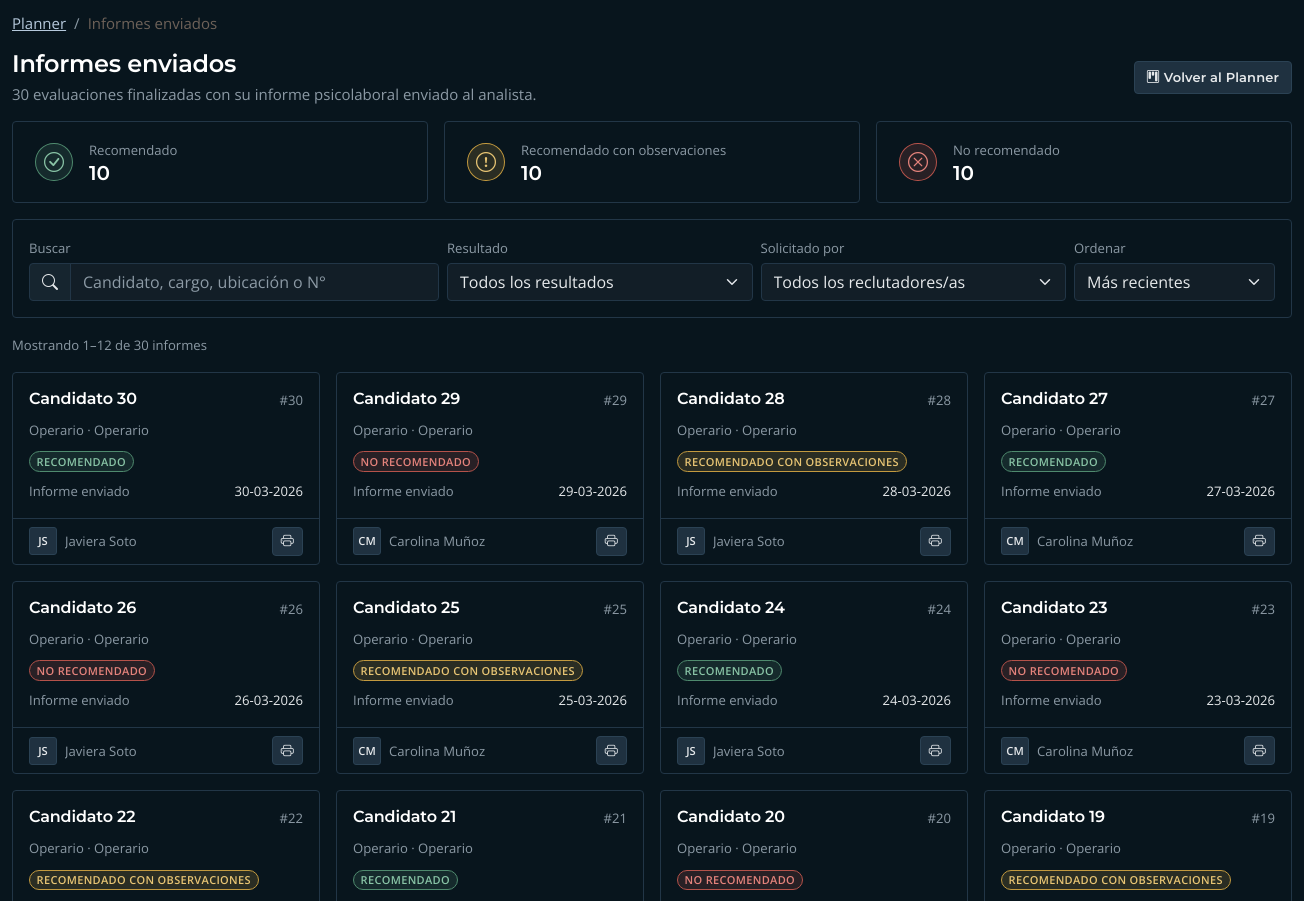
Test case: InformesEnviados › muestra el resumen por resultado y filtra al hacer clic
The width and height of the screenshot is (1304, 901).
Click the button "No recomendado 10": (918, 162) [876,121,1292,203]
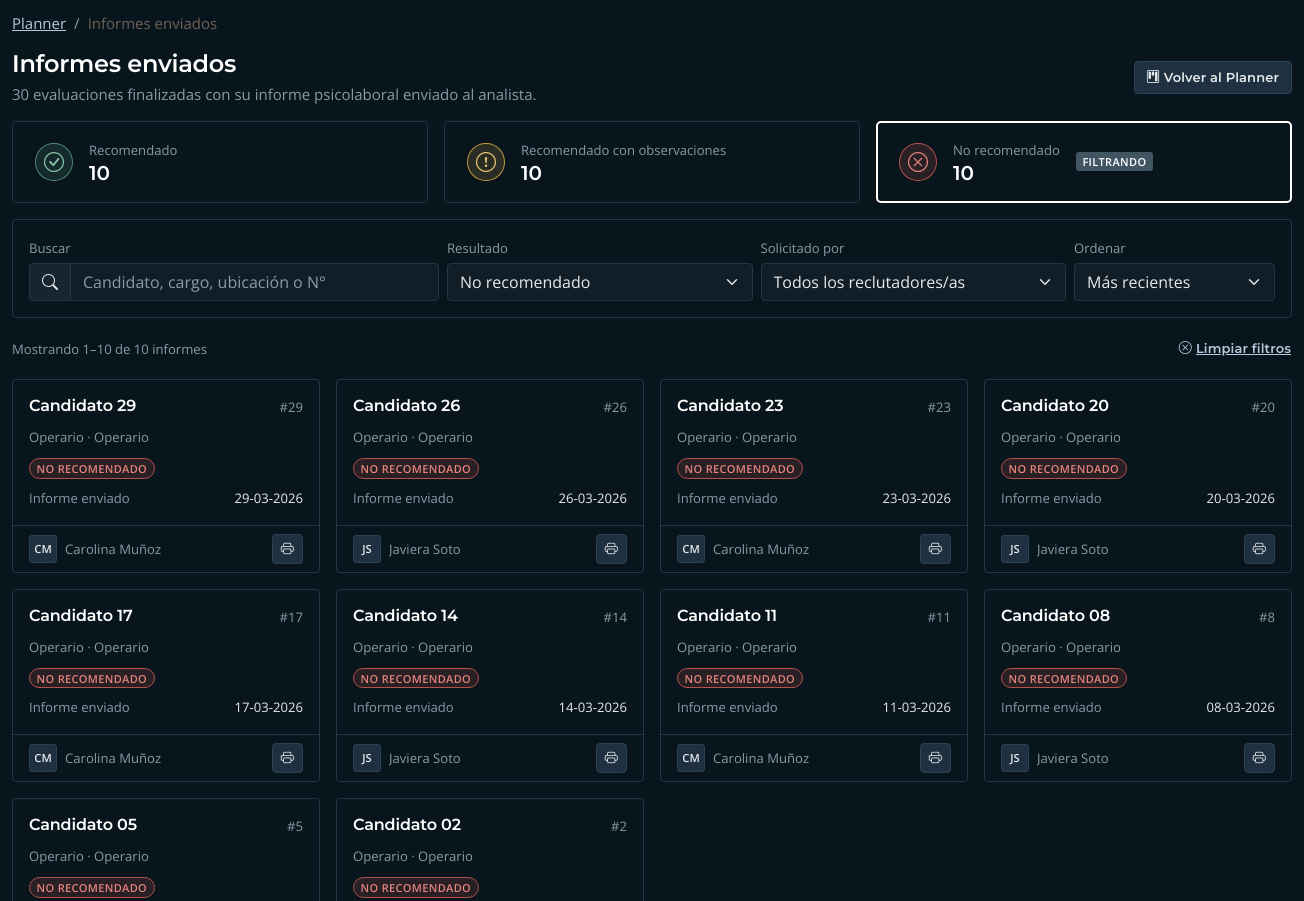
Expected: the text "Mostrando 1–10 de 10 informes" is shown, [12,338,207,360]
Expected: the text "No recomendado" below "Candidato 17" is shown, [37,671,147,686]
Expected: the text "No recomendado" below "Candidato 14" is shown, [361,671,471,686]
